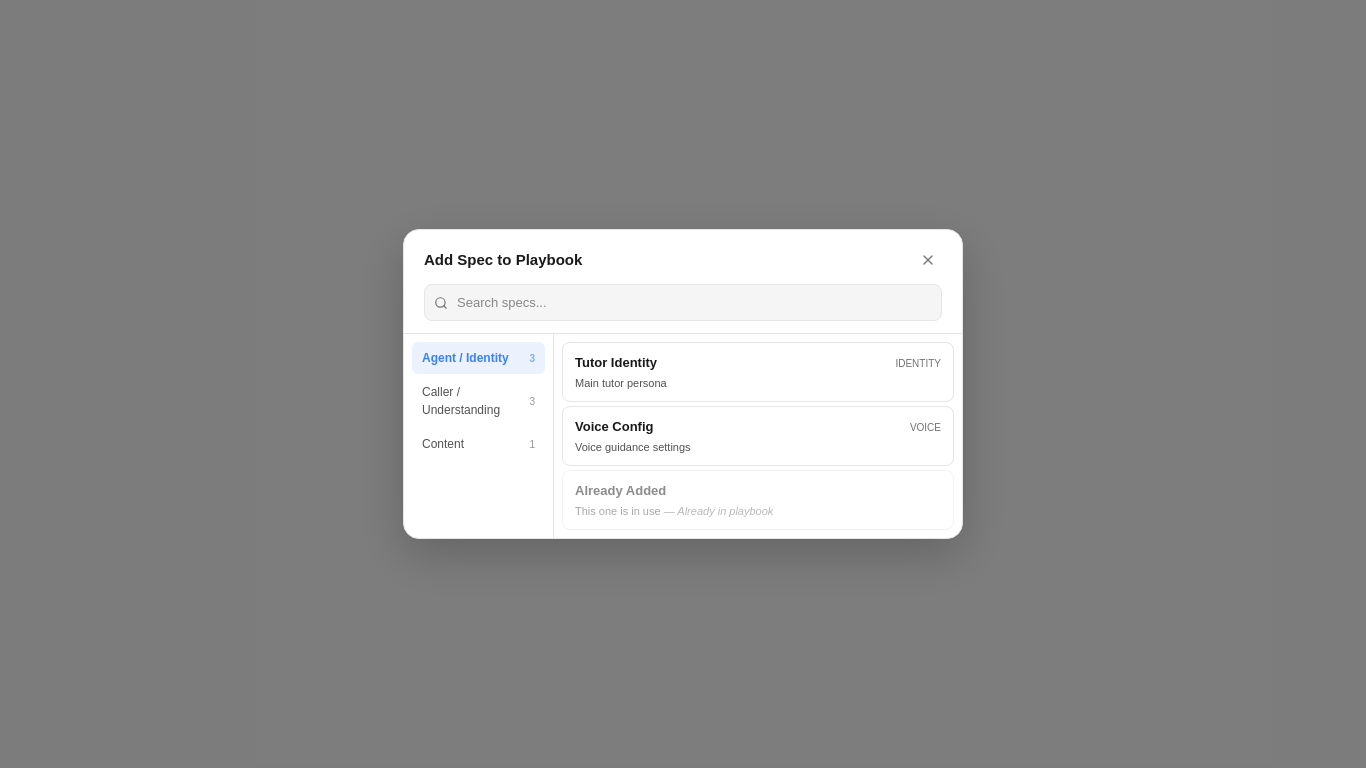
Test: TypePickerDialog search › filters items by name
In the field with test id "picker-search": (683, 303) x1=424 y1=284 x2=942 y2=321, type "tutor"
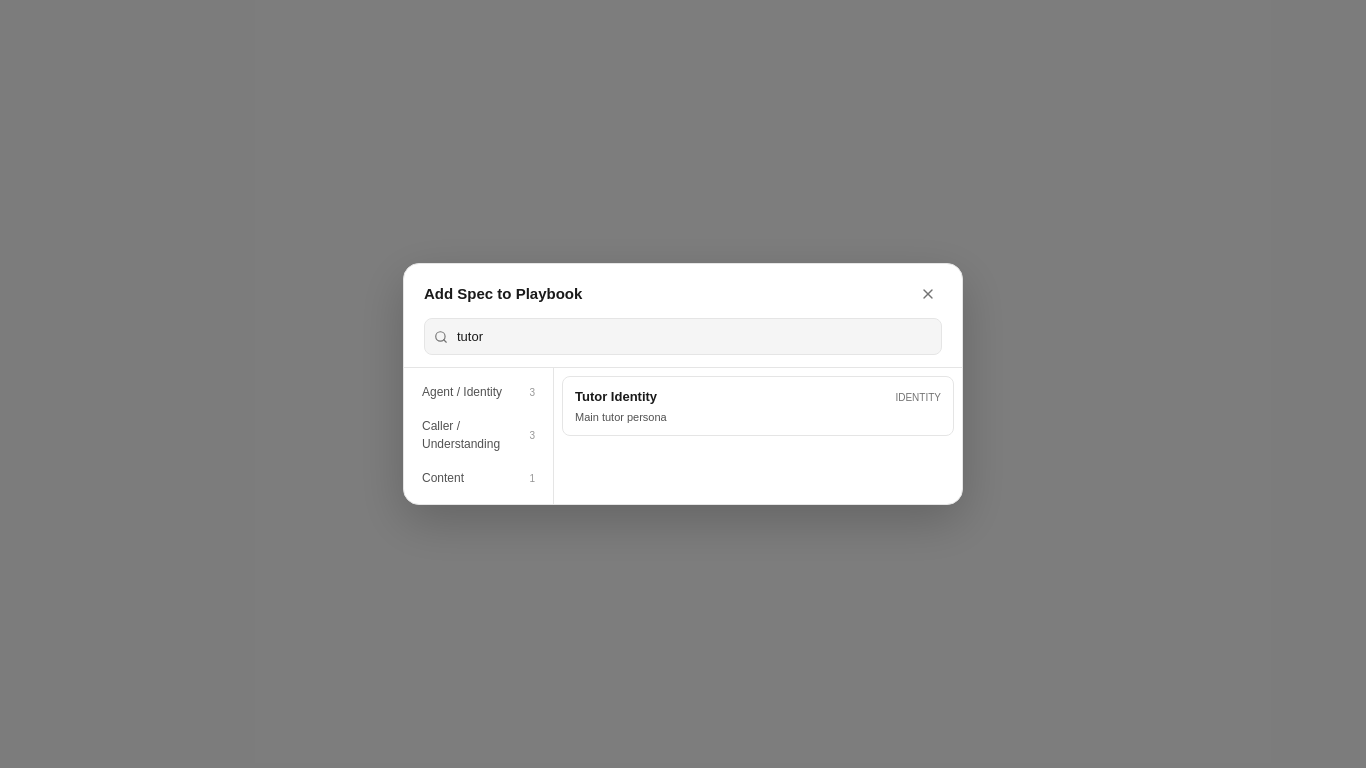
Expected: the text "Tutor Identity" is shown, x1=575 y1=387 x2=657 y2=407
Result: the button "Voice Config" is gone
